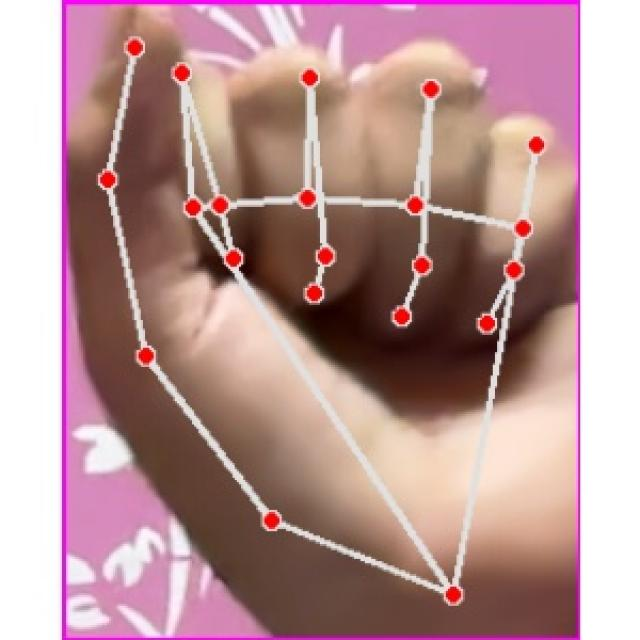A: (70, 2, 572, 636)
